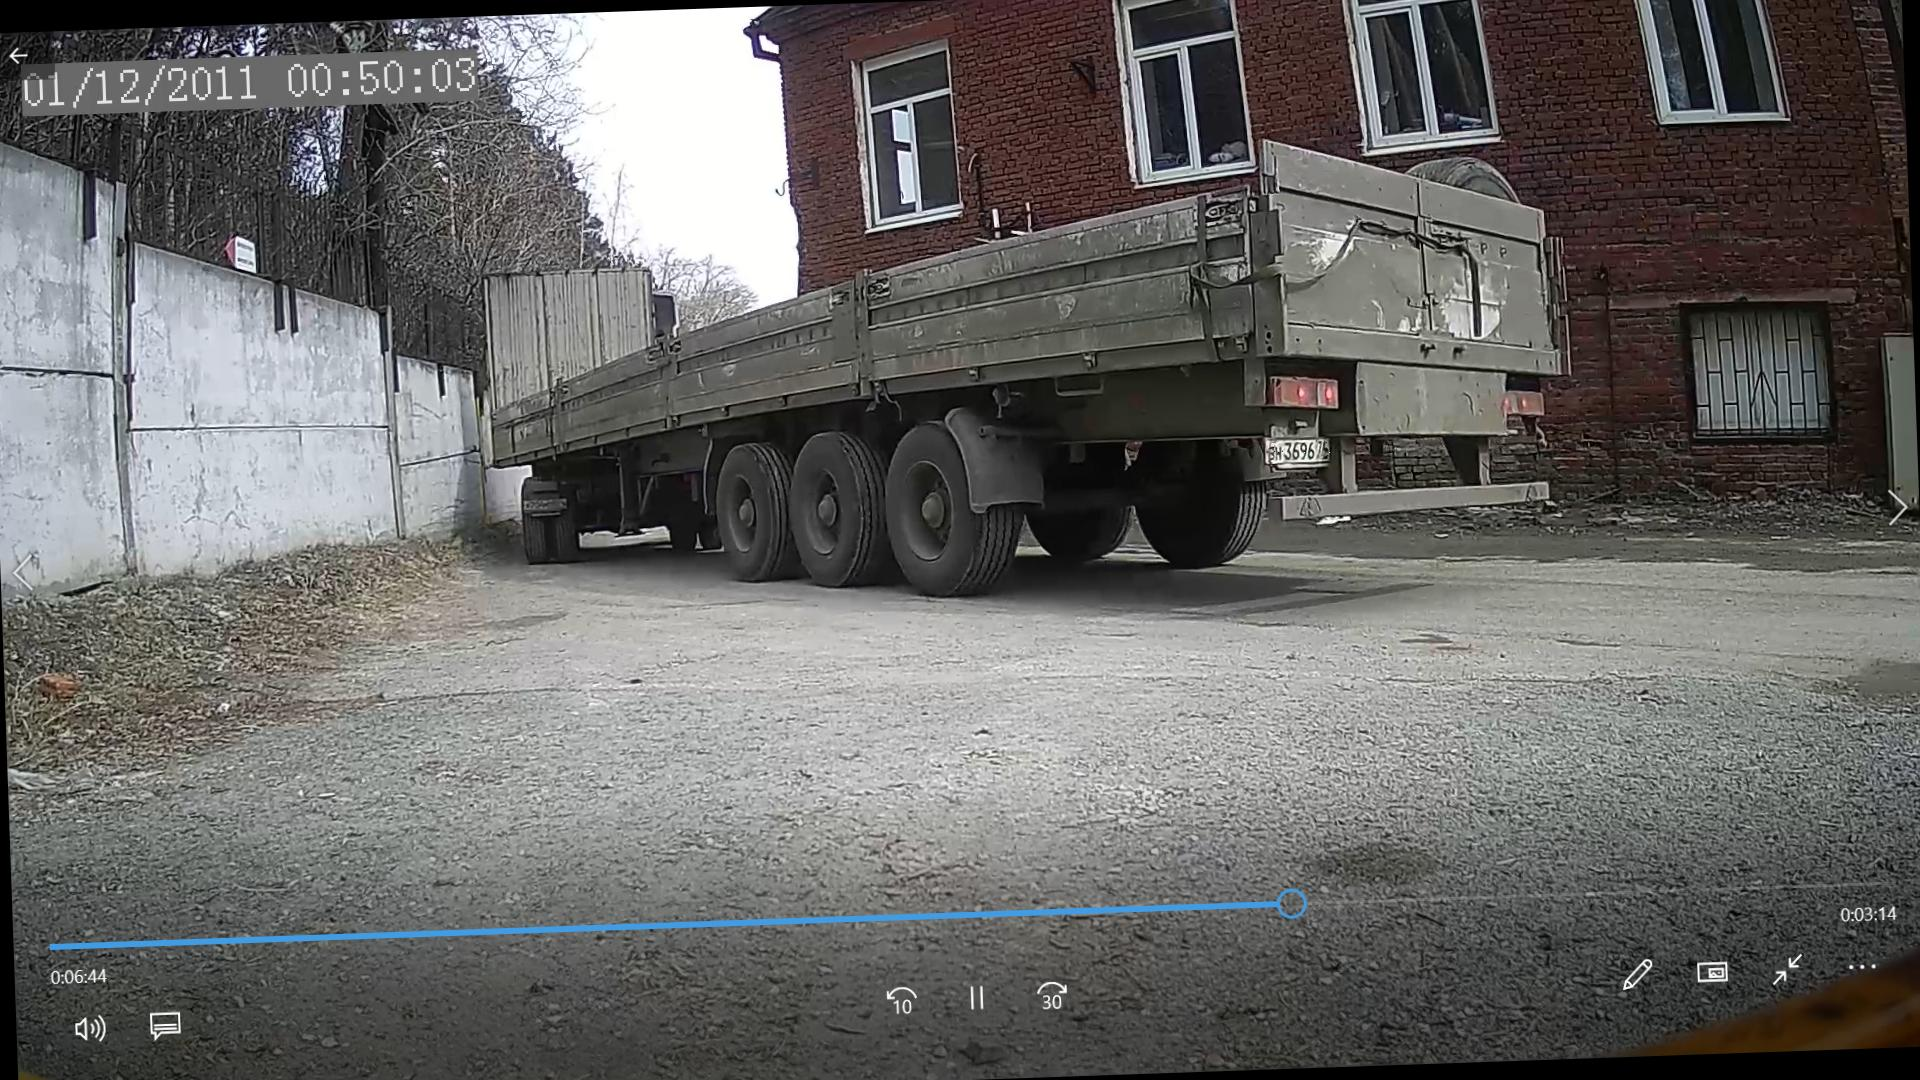plate: (1269, 441, 1335, 464)
